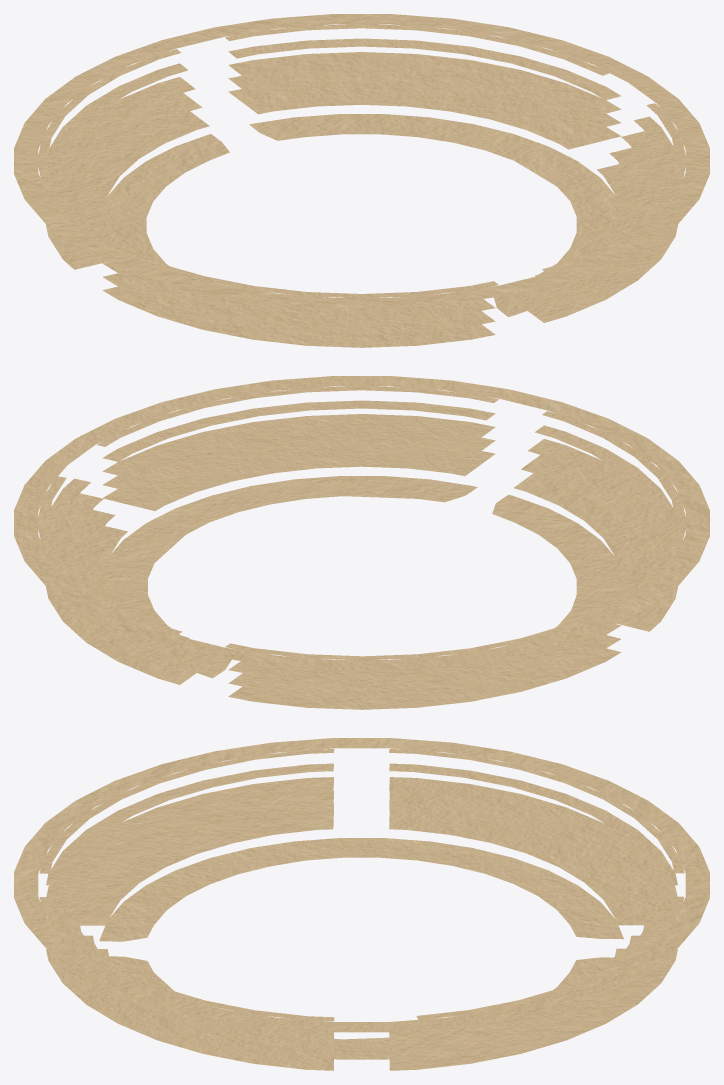
Rendered from Colosseum_Floor_Aud.obj.
3 views of the same model, one above another, from view 1: azimuth 30°, elevation 25°; view 2: azimuth 150°, elevation 25°; view 3: azimuth 270°, elevation 25° (orthographic).
Parts seen in each view (by area): view 1: Colo_Floor_Aud_Arena_draft.lwo.001; view 2: Colo_Floor_Aud_Arena_draft.lwo.001; view 3: Colo_Floor_Aud_Arena_draft.lwo.001.
Part boxes in pixels (x1,y1,x2,y2): Colo_Floor_Aud_Arena_draft.lwo.001: [14, 14, 709, 347]; Colo_Floor_Aud_Arena_draft.lwo.001: [14, 376, 709, 709]; Colo_Floor_Aud_Arena_draft.lwo.001: [14, 738, 709, 1070].
Bounding box in the file's own units: 30.77 × 3.11 × 30.77.
Materials: 1 (1 with a texture image).
